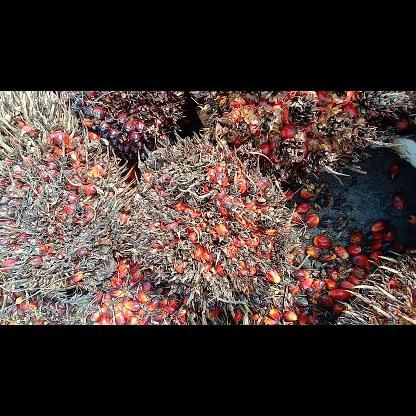Terlalu masak: (121, 130, 302, 324), (0, 90, 145, 302), (190, 91, 382, 187), (58, 91, 190, 163)
